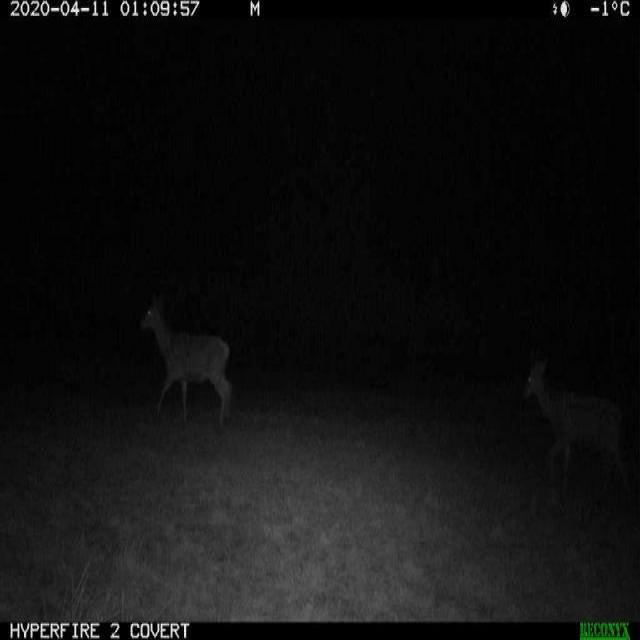deer: (512, 343, 625, 524), (128, 282, 235, 435)
